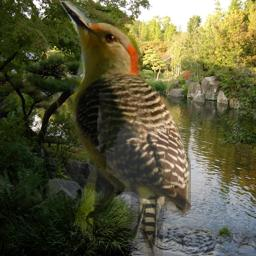Woodpecker: (60, 1, 191, 256)
